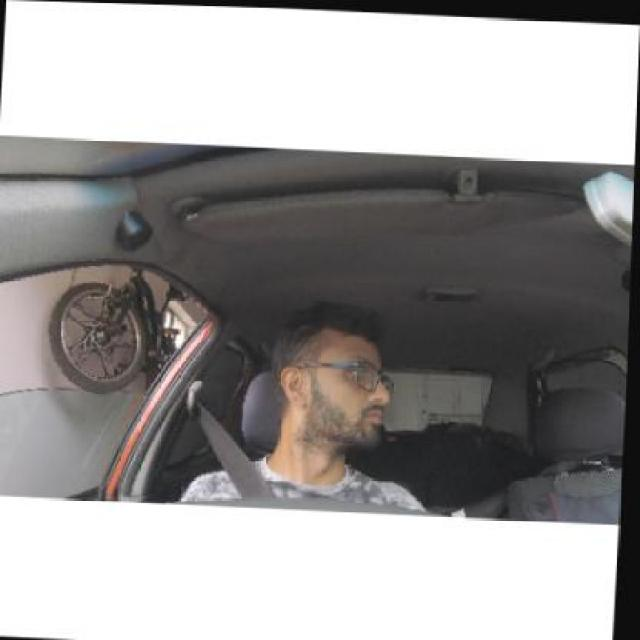LeftRight: (271, 331, 400, 456)
